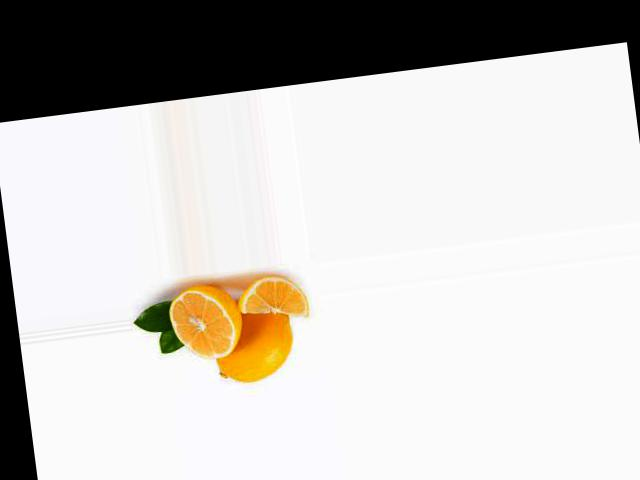lemon: (195, 296, 313, 393)
